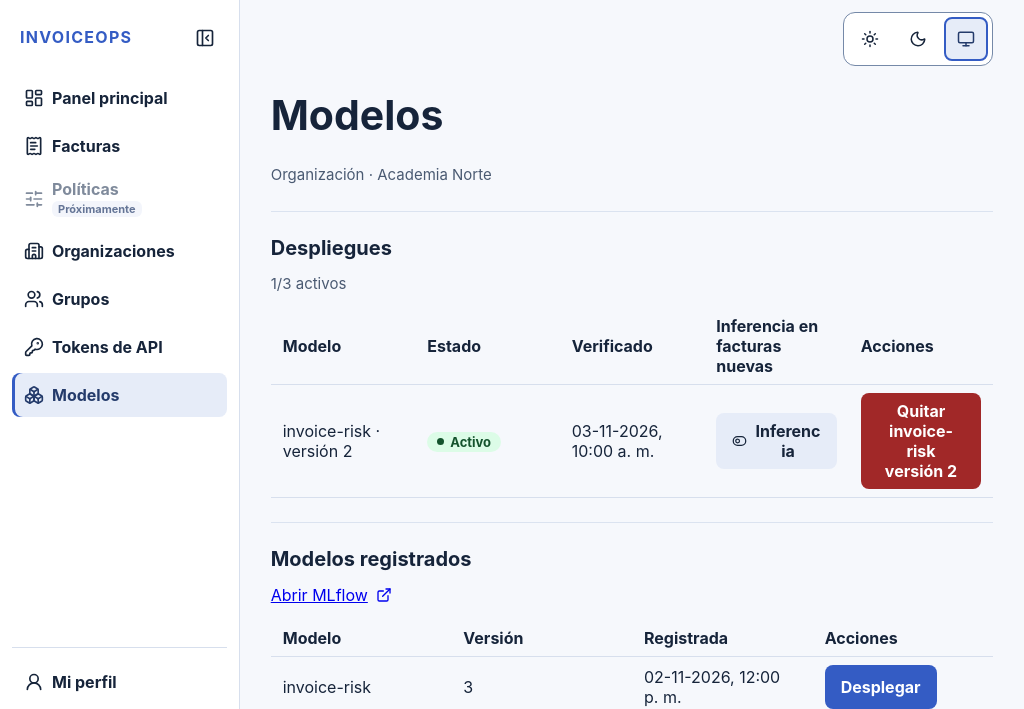
Test: MLOPS-05 models and deployments › reports a toggle that the server refuses and keeps the list usable
This screenshot has width=1024, height=709.
Expected: the heading "Modelos" is shown, 271,90 -> 443,140
Click the switch named "versión 2". click: (776, 441)
box: 716,413 -> 837,469
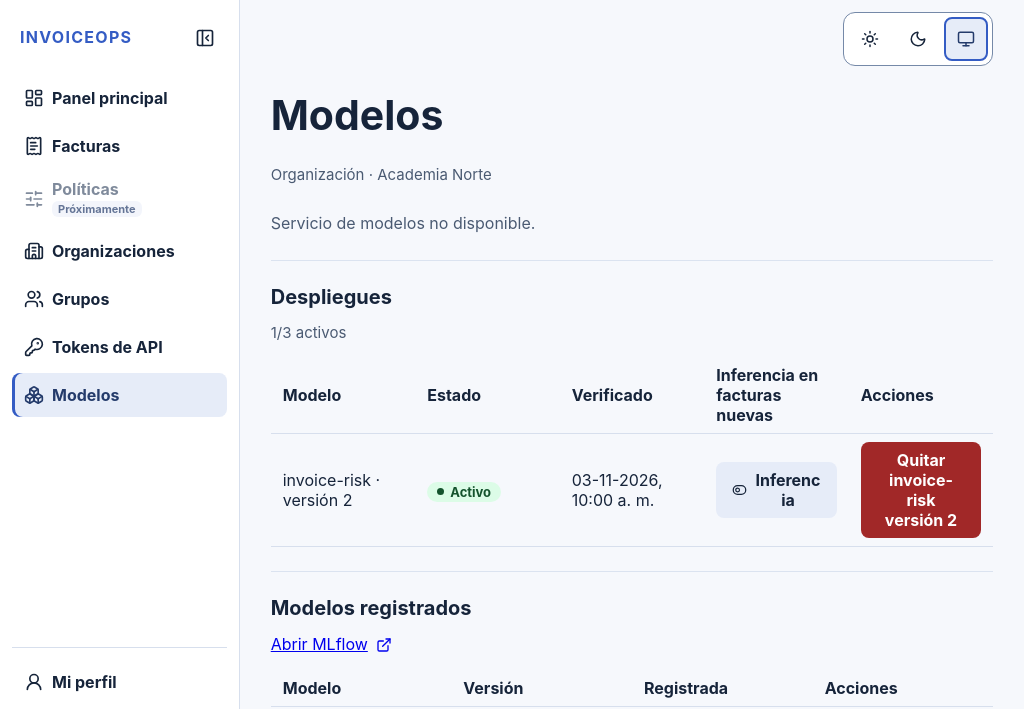
Expected: the text "Servicio de modelos no disponible." is shown, 271,213 -> 535,233
